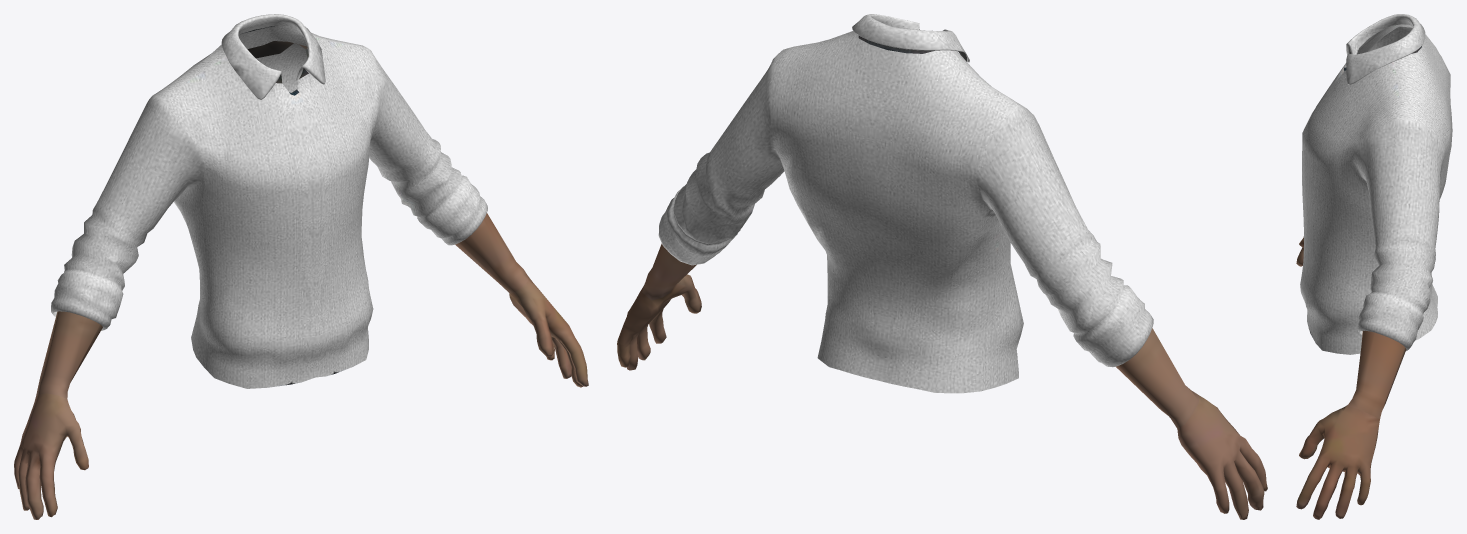
Rendered from 231101_G_Torso_03.glb.
The picture shows the model from 3 angles, left to right: view 1: azimuth 30°, elevation 25°; view 2: azimuth 150°, elevation 25°; view 3: azimuth 270°, elevation 25°; orthographic projection. The views are drawn at different scales.
Visible parts, largest first — view 1: G_Torso_03; view 2: G_Torso_03; view 3: G_Torso_03.
Part boxes in pixels (bbox=[...]): G_Torso_03: bbox=[14, 14, 588, 519]; G_Torso_03: bbox=[617, 14, 1267, 519]; G_Torso_03: bbox=[1296, 14, 1452, 519].
Bounding box in the file's own units: 1.06 × 0.728 × 0.2777.
1 material, 1 textured.
